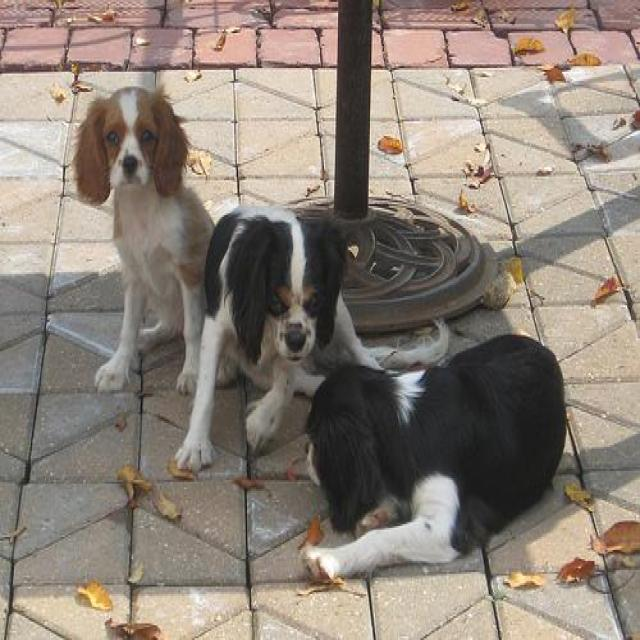blenheim_spaniel: (171, 203, 452, 477), (302, 333, 567, 583), (74, 88, 214, 396)
